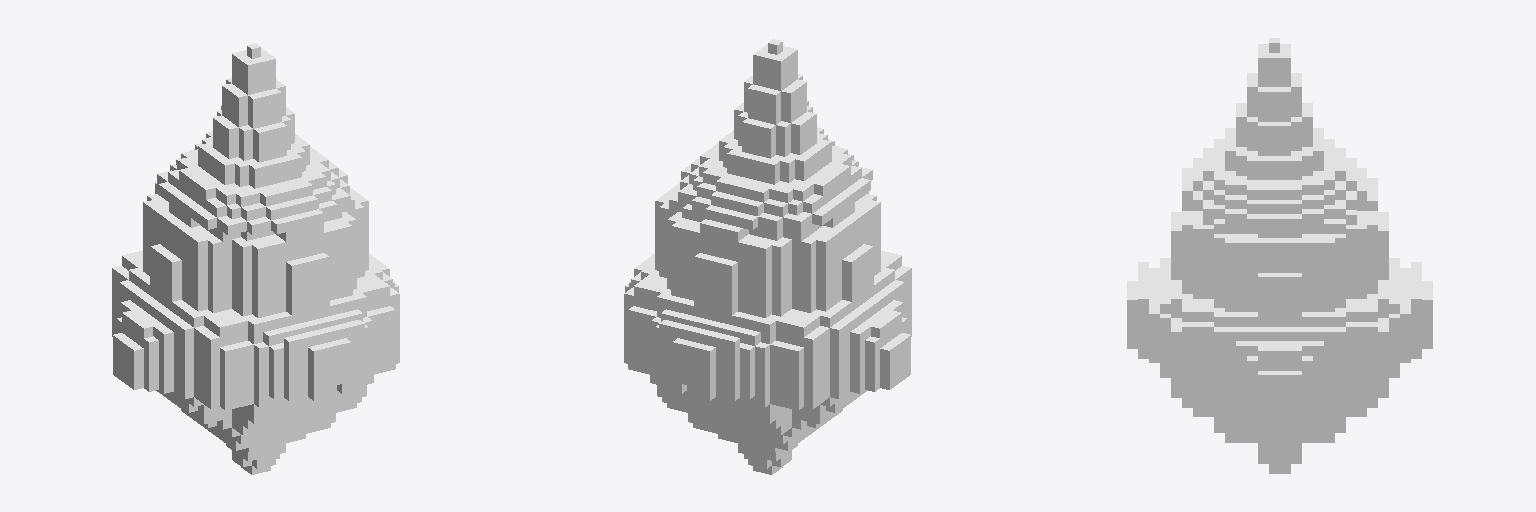
The model's file is Iceflower-1.obj.
3 renders of one model, left to right at view 1: azimuth 30°, elevation 25°; view 2: azimuth 150°, elevation 25°; view 3: azimuth 270°, elevation 25°, orthographic.
Parts seen in each view (by area): view 1: object 1; view 2: object 1; view 3: object 1.
Boxes of the visible parts, box(x1,y1,x2,y2) form: object 1: box(112, 43, 399, 474); object 1: box(624, 39, 911, 474); object 1: box(1127, 38, 1432, 473).
Bounding box in the file's own units: 2.8 × 4.3 × 2.8.